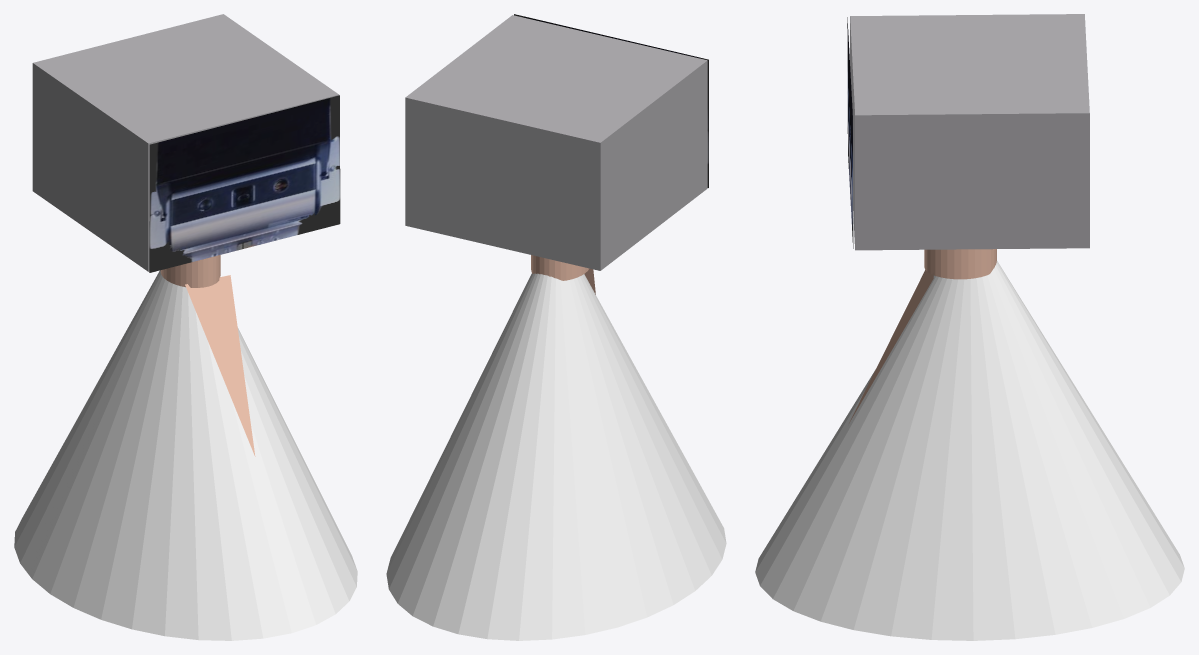
The model's file is elecineman_center.gltf.
The picture shows the model from 3 angles, left to right: view 1: azimuth 30°, elevation 25°; view 2: azimuth 150°, elevation 25°; view 3: azimuth 270°, elevation 25°; orthographic projection. The views are drawn at different scales.
Parts seen in each view (by area): view 1: Cone, Cube, Plane.001, Plane, Cylinder; view 2: Cone, Cube, Cylinder, Plane.001; view 3: Cone, Cube, Cylinder, Plane, Plane.001.
Boxes of the visible parts, left/top/right/bottom form: Cone: left=14, top=270, right=357, bottom=640; Cube: left=32, top=14, right=338, bottom=271; Plane.001: left=149, top=95, right=340, bottom=272; Plane: left=185, top=275, right=255, bottom=456; Cylinder: left=160, top=255, right=220, bottom=287; Cone: left=386, top=273, right=726, bottom=640; Cube: left=405, top=15, right=707, bottom=270; Cylinder: left=531, top=255, right=589, bottom=280; Plane.001: left=514, top=14, right=708, bottom=187; Cone: left=755, top=261, right=1184, bottom=640; Cube: left=850, top=14, right=1089, bottom=250; Cylinder: left=924, top=249, right=996, bottom=279; Plane: left=849, top=270, right=933, bottom=423; Plane.001: left=847, top=17, right=853, bottom=248.
Bounding box in the file's own units: 2.85 × 4.76 × 3.66.
4 materials, 1 textured.
